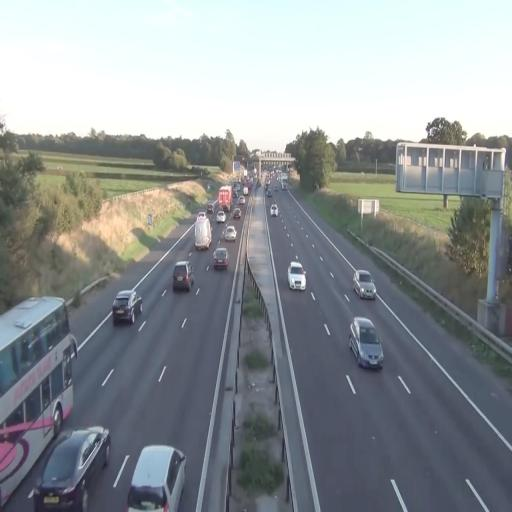vehicle: (0, 294, 77, 505), (0, 297, 77, 508), (29, 425, 111, 509), (33, 427, 110, 511), (127, 443, 187, 512), (127, 446, 186, 511), (349, 316, 384, 370), (350, 318, 383, 369), (112, 287, 142, 325), (112, 290, 142, 324), (352, 268, 376, 299), (194, 212, 212, 252), (353, 270, 376, 300), (194, 213, 212, 251), (172, 261, 194, 291), (173, 261, 192, 294), (194, 218, 212, 250), (288, 260, 306, 290), (288, 262, 306, 290), (213, 248, 229, 270), (218, 186, 232, 211), (218, 186, 232, 210), (214, 248, 228, 269), (220, 225, 236, 242), (215, 208, 227, 224), (225, 226, 236, 241), (216, 211, 226, 223), (281, 173, 287, 189), (270, 205, 278, 216), (196, 212, 206, 220), (234, 208, 241, 219), (207, 204, 214, 214), (246, 180, 252, 190), (238, 196, 245, 204), (243, 185, 248, 195), (233, 190, 238, 198), (232, 181, 237, 188), (267, 189, 272, 196), (265, 183, 269, 190), (237, 183, 240, 192), (274, 185, 278, 190)
